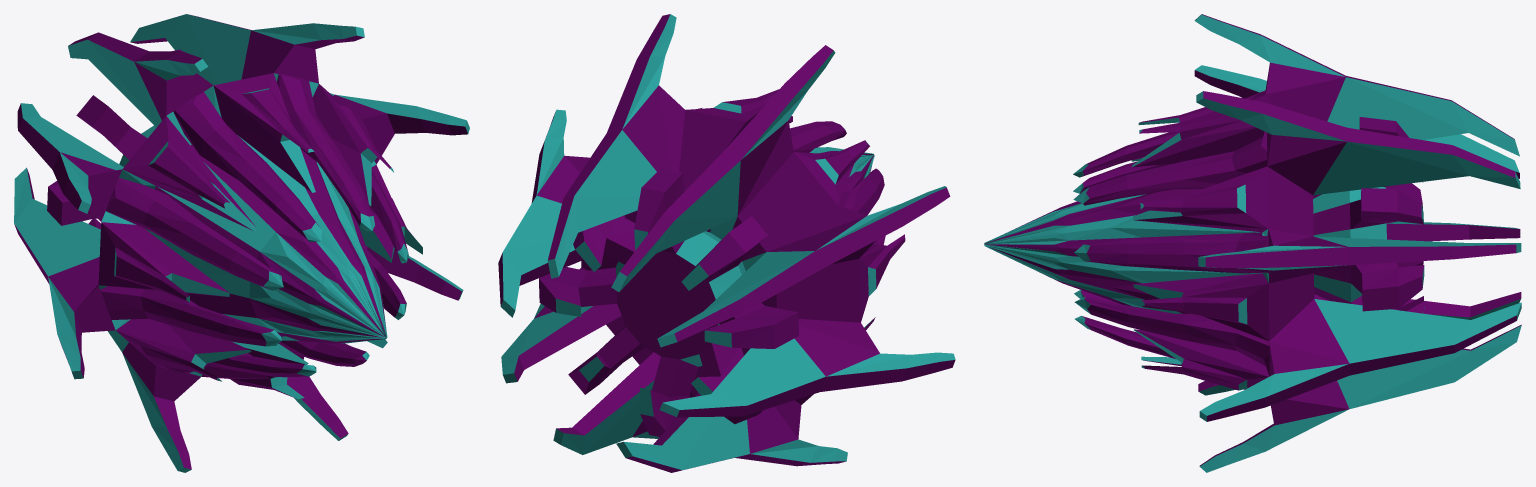
The model's file is ship2.dae.
The picture shows the model from 3 angles, left to right: view 1: azimuth 30°, elevation 25°; view 2: azimuth 150°, elevation 25°; view 3: azimuth 270°, elevation 25°; orthographic projection. The views are drawn at different scales.
Visible parts, largest first — view 1: Ship3; view 2: Ship3; view 3: Ship3.
Boxes of the visible parts, <box> form: Ship3: <box>14,14,469,472</box>; Ship3: <box>498,14,955,472</box>; Ship3: <box>984,14,1521,472</box>.
Bounding box in the file's own units: 6.27 × 7.75 × 6.27.
